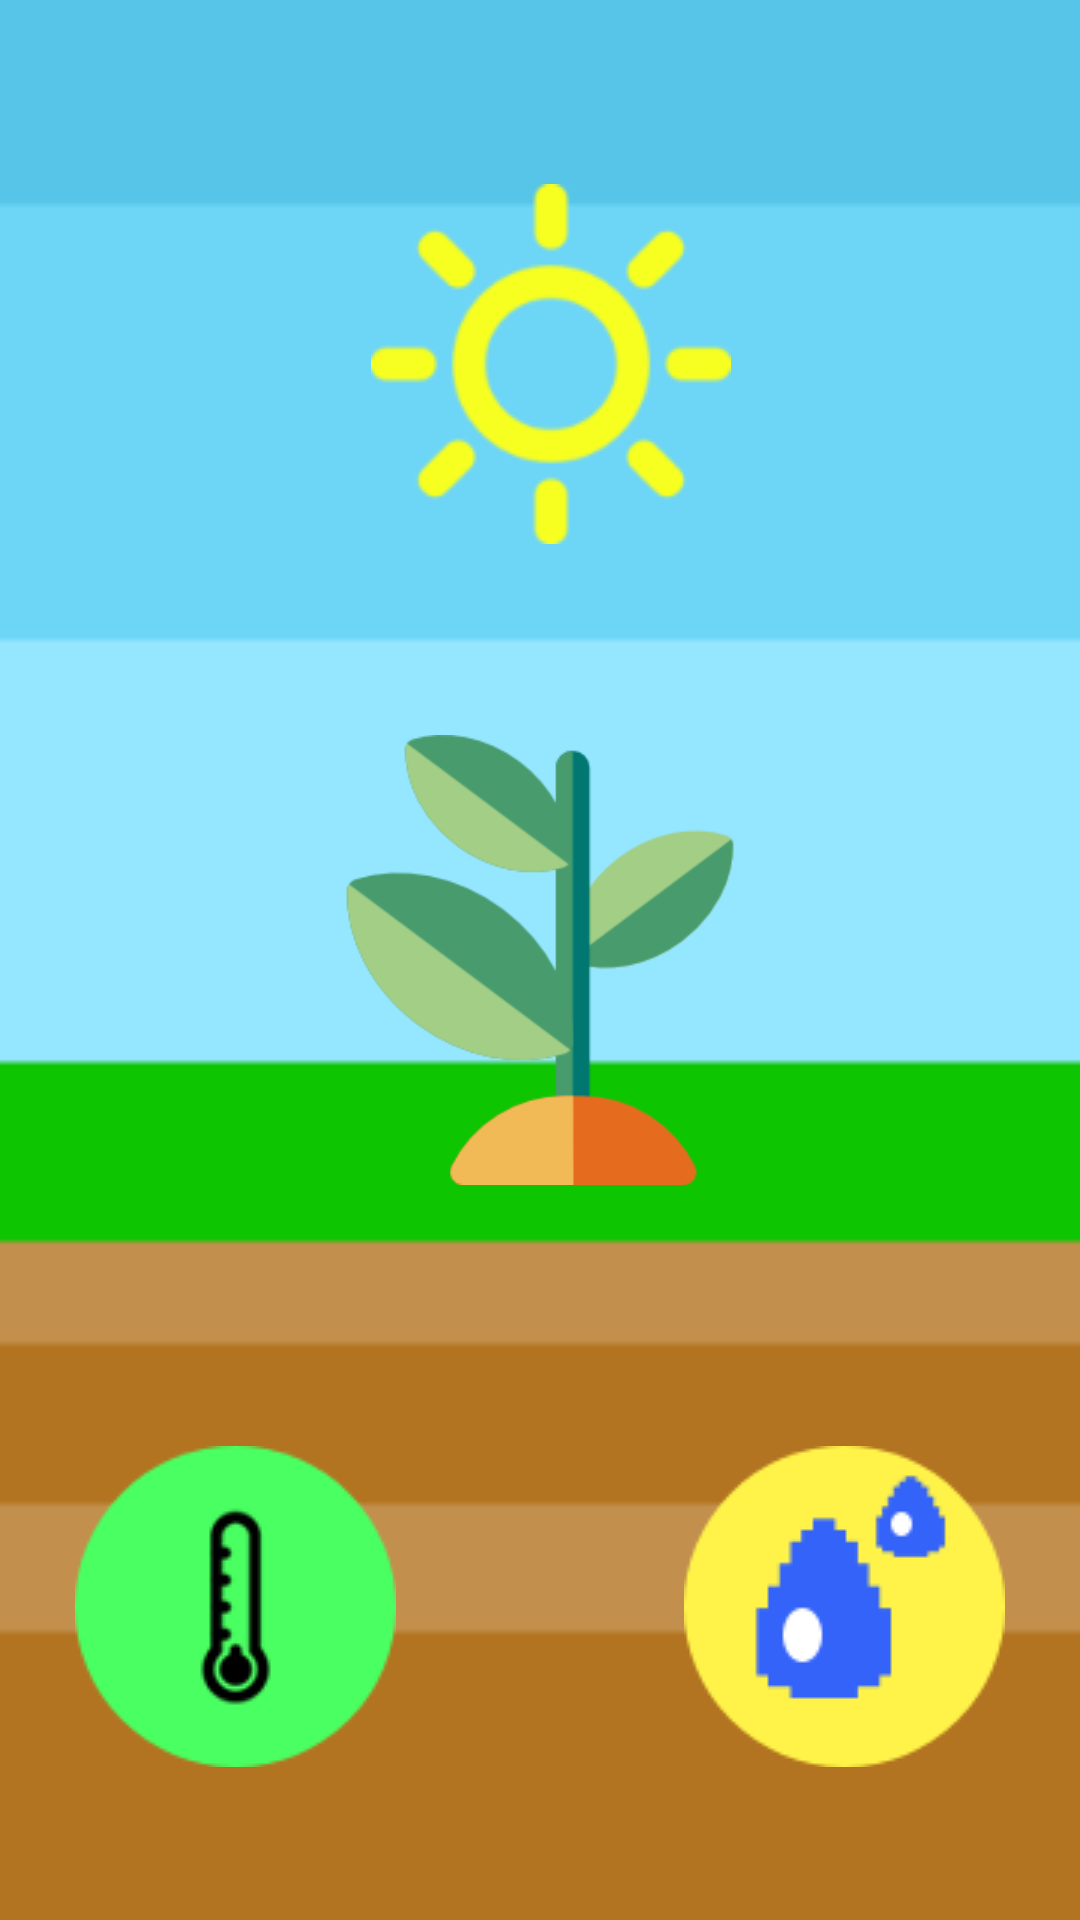

Screen size 1080*1920. Icon name, then its box in pixels as (x1, y1, x2, y2):
sun: (371, 184, 731, 544)
water: (684, 1446, 1005, 1767)
